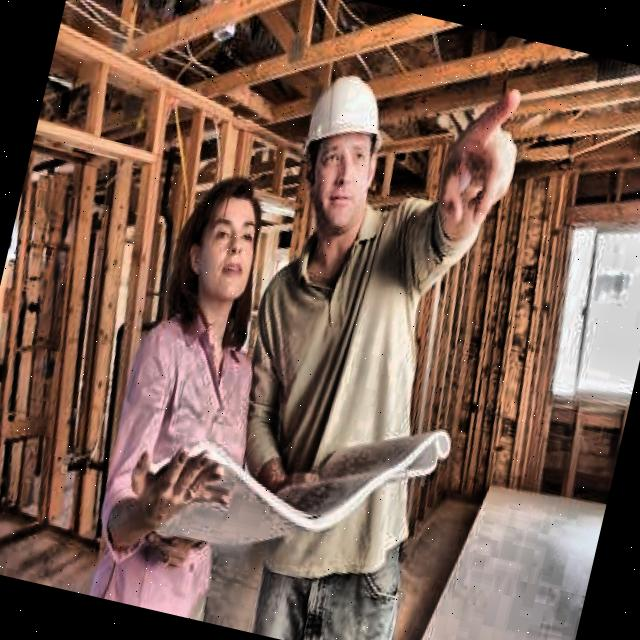helmet: (269, 62, 401, 270)
